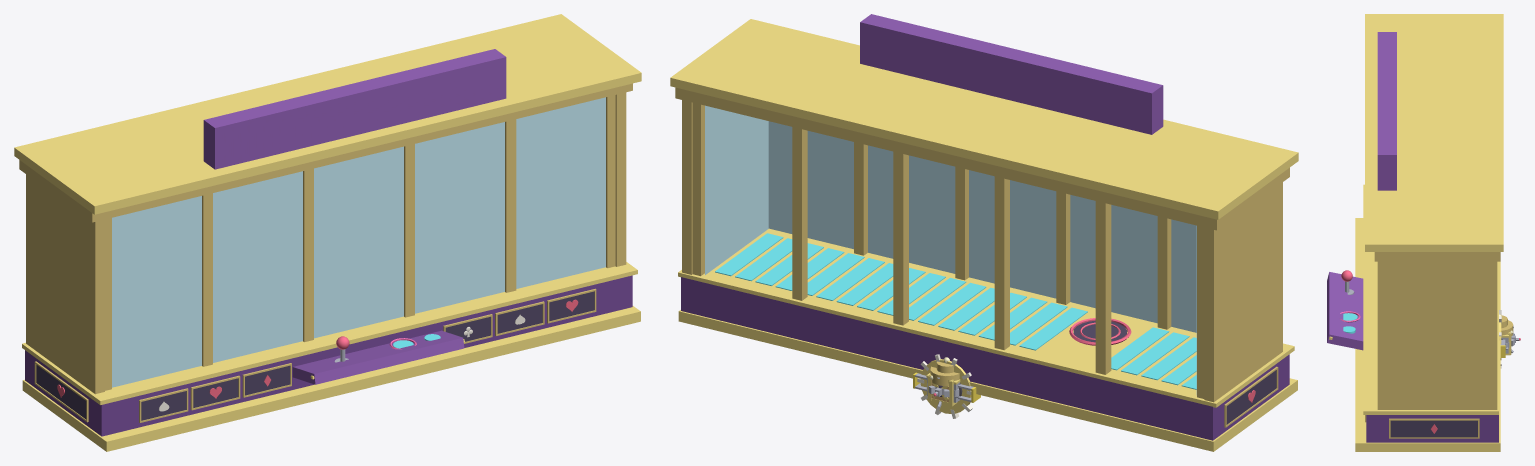
Rendered from claw.glb.
The picture shows the model from 3 angles, left to right: view 1: azimuth 30°, elevation 25°; view 2: azimuth 150°, elevation 25°; view 3: azimuth 270°, elevation 25°; orthographic projection. The views are drawn at different scales.
Visible parts, largest first — view 1: glassFront, cornice, frame, baseTrim, marqueeBox, base, basePanels, console, baseFrames; view 2: cornice, frame, glassFront, baseTrim, base, vents, marqueeBox, glassEnds, basePanels, chipBody; view 3: cornice, frame, baseTrim, marqueeBox, console, base, basePanels, baseFrames, clawBody.
Boxes of the visible parts, x1,y1,x2,y2 form: glassFront: (112,97,605,387); cornice: (14,14,641,214); frame: (19,83,632,394); baseTrim: (22,262,640,451); marqueeBox: (203,49,506,169); base: (25,275,632,436); basePanels: (36,291,594,420); console: (292,330,464,384); baseFrames: (34,288,596,422); cornice: (670,19,1298,219); frame: (675,87,1289,402); glassFront: (768,121,1196,332); baseTrim: (678,228,1297,451); base: (681,277,1289,440); vents: (715,233,1196,389); marqueeBox: (860,14,1163,134); glassEnds: (705,105,1196,394); basePanels: (1226,370,1276,424); chipBody: (920,359,971,413); cornice: (1365,14,1503,251); frame: (1374,252,1500,409); baseTrim: (1355,184,1500,451); marqueeBox: (1377,32,1396,190); console: (1327,272,1363,350); base: (1366,415,1498,442); basePanels: (1390,420,1477,437); baseFrames: (1365,415,1479,438); clawBody: (1501,315,1513,336).
Bounding box in the file's own units: 16.9 × 9.28 × 6.
